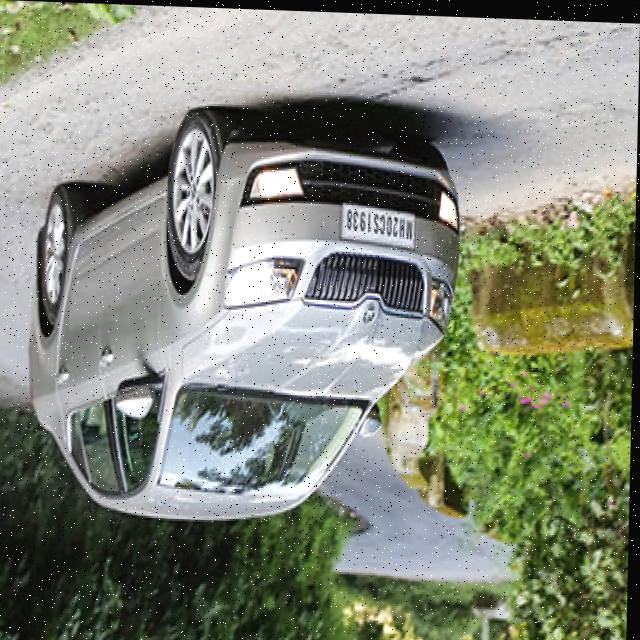plate: (341, 199, 417, 246)
